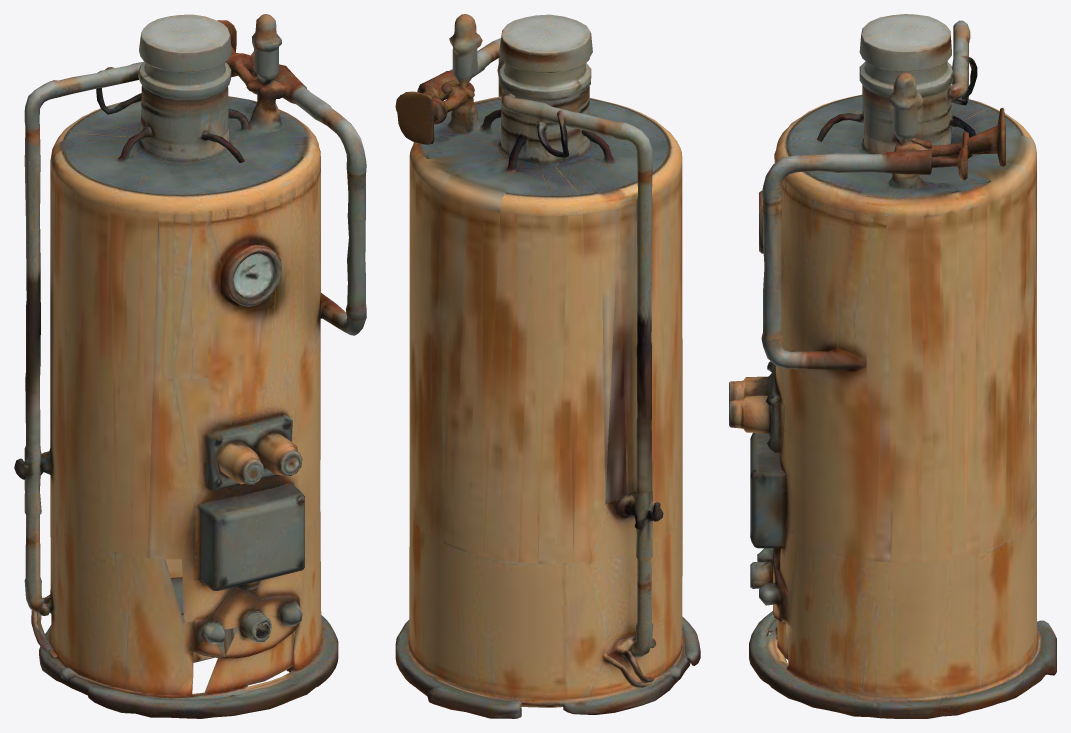
File: boiler.glb
3 views of the same model, side by side, from view 1: azimuth 30°, elevation 25°; view 2: azimuth 150°, elevation 25°; view 3: azimuth 270°, elevation 25° (orthographic).
Size of the model in its own units: 0.8689 by 1.91 by 0.9041.
Materials: 1 (1 with a texture image).
